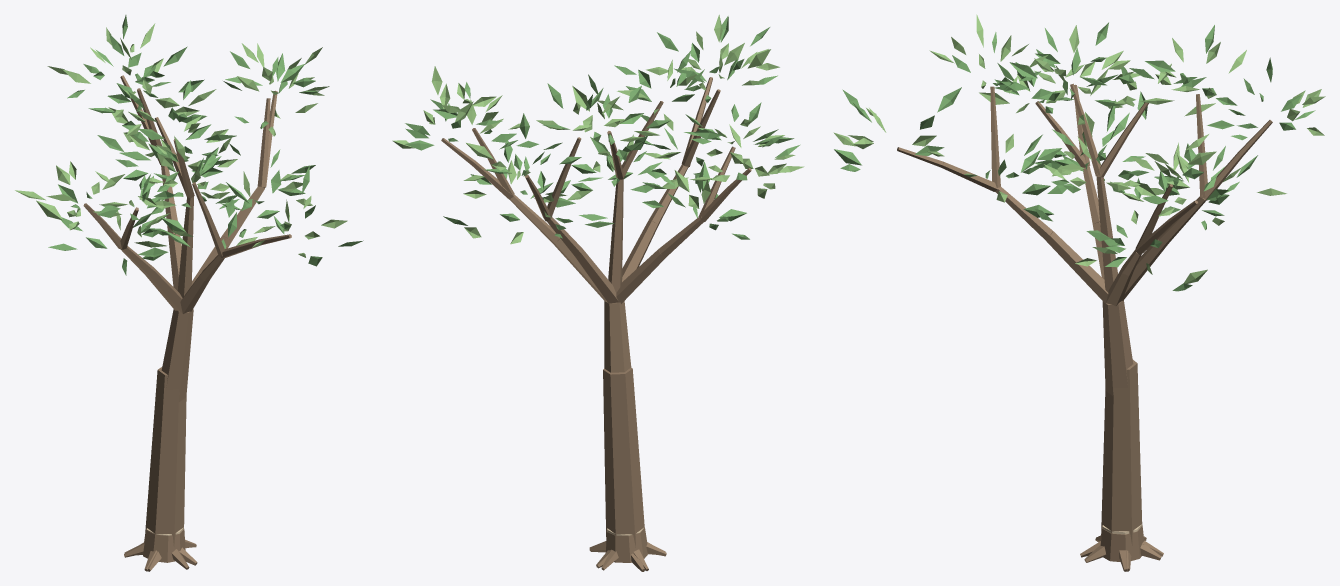
Rendered from plant-broadleaf-b_lod1.glb.
3 views of the same model, side by side, from view 1: azimuth 30°, elevation 25°; view 2: azimuth 150°, elevation 25°; view 3: azimuth 270°, elevation 25° (orthographic). The views are drawn at different scales.
Parts seen in each view (by area): view 1: plant-broadleaf-b_standing_bark, plant-broadleaf-b_standing_leafA, plant-broadleaf-b_standing_leafB, plant-broadleaf-b_stump_bark; view 2: plant-broadleaf-b_standing_bark, plant-broadleaf-b_standing_leafA, plant-broadleaf-b_standing_leafB, plant-broadleaf-b_stump_bark; view 3: plant-broadleaf-b_standing_bark, plant-broadleaf-b_standing_leafA, plant-broadleaf-b_standing_leafB, plant-broadleaf-b_stump_bark.
Boxes of the visible parts, <box> form: plant-broadleaf-b_standing_bark: <box>83,75,291,571</box>; plant-broadleaf-b_standing_leafA: <box>48,15,363,275</box>; plant-broadleaf-b_standing_leafB: <box>15,23,347,257</box>; plant-broadleaf-b_stump_bark: <box>124,528,197,571</box>; plant-broadleaf-b_standing_bark: <box>441,77,751,570</box>; plant-broadleaf-b_standing_leafA: <box>405,16,800,239</box>; plant-broadleaf-b_standing_leafB: <box>392,14,804,244</box>; plant-broadleaf-b_stump_bark: <box>589,527,665,571</box>; plant-broadleaf-b_standing_bark: <box>897,83,1272,571</box>; plant-broadleaf-b_standing_leafA: <box>834,22,1315,291</box>; plant-broadleaf-b_standing_leafB: <box>833,14,1325,283</box>; plant-broadleaf-b_stump_bark: <box>1084,525,1161,571</box>.
Size of the model in its own units: 5.2 by 7.38 by 6.27.
